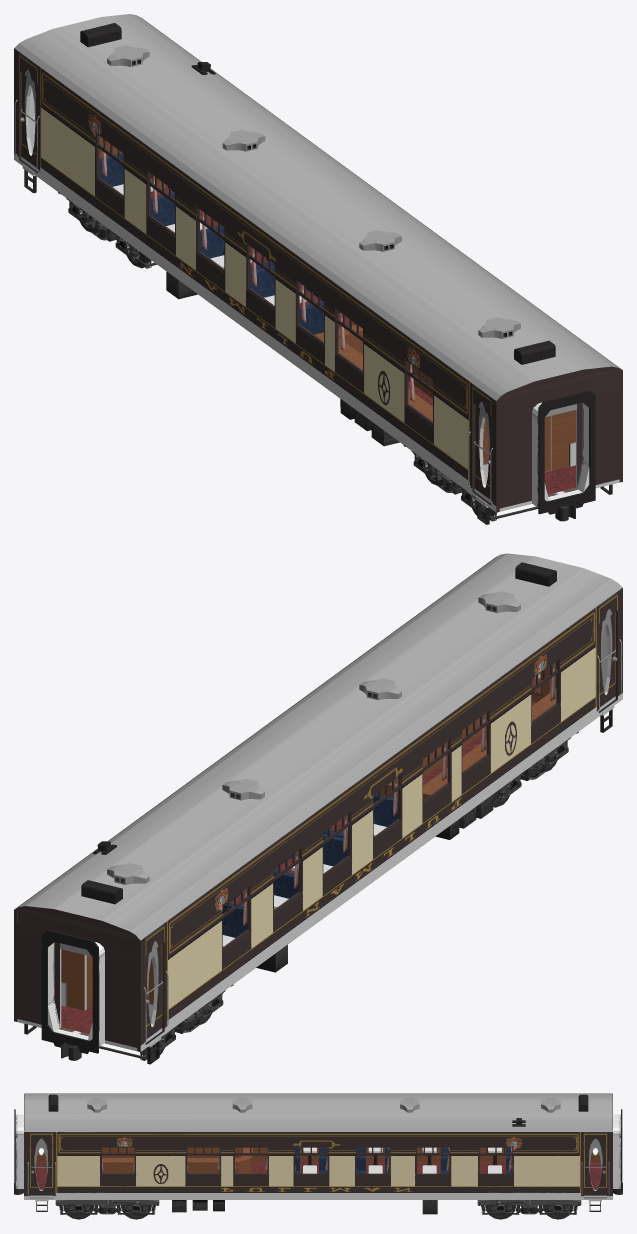
File: brpullman_bar.obj
3 views of the same model, one above another, from view 1: azimuth 30°, elevation 25°; view 2: azimuth 150°, elevation 25°; view 3: azimuth 270°, elevation 25° (orthographic). The views are drawn at different scales.
Visible parts, largest first — view 1: pull_jibung, pull_side, pull_back, pull_sofa, pull_hwanpung, pull_KVZ-TSNII, pull_wall, pull_makoutside, pull_changteulbase, pull_mak, pull_roofitems, pull_changteul (+6 smaller); view 2: pull_jibung, pull_side, pull_back, pull_hwanpung, pull_wall, pull_KVZ-TSNII, pull_makoutside, pull_sofa, pull_changteulbase, pull_bar, pull_roofitems, pull_mak (+6 smaller); view 3: pull_side, pull_jibung, pull_KVZ-TSNII, pull_bar, pull_changteulbase, pull_mak, pull_badakwood, pull_table, pull_door_LF, pull_hwanpung, pull_sofa, pull_door_LB (+8 smaller).
Boxes of the visible parts, left/top/right/bottom form: pull_jibung: left=14, top=14, right=620, bottom=400; pull_side: left=14, top=17, right=622, bottom=512; pull_back: left=497, top=366, right=621, bottom=511; pull_sofa: left=99, top=153, right=356, bottom=334; pull_hwanpung: left=107, top=45, right=520, bottom=338; pull_KVZ-TSNII: left=58, top=192, right=575, bottom=521; pull_wall: left=29, top=88, right=576, bottom=487; pull_makoutside: left=538, top=390, right=595, bottom=514; pull_changteulbase: left=96, top=132, right=432, bottom=424; pull_mak: left=532, top=402, right=589, bottom=507; pull_roofitems: left=80, top=23, right=555, bottom=364; pull_changteul: left=97, top=139, right=432, bottom=392; pull_jibung: left=16, top=553, right=622, bottom=940; pull_side: left=14, top=556, right=622, bottom=1051; pull_back: left=15, top=673, right=540, bottom=1050; pull_hwanpung: left=107, top=591, right=520, bottom=884; pull_wall: left=60, top=627, right=607, bottom=1026; pull_KVZ-TSNII: left=61, top=731, right=578, bottom=1060; pull_makoutside: left=41, top=930, right=98, bottom=1053; pull_sofa: left=222, top=793, right=398, bottom=937; pull_changteulbase: left=222, top=658, right=559, bottom=950; pull_bar: left=376, top=688, right=556, bottom=800; pull_roofitems: left=81, top=562, right=556, bottom=904; pull_mak: left=48, top=942, right=104, bottom=1046; pull_side: left=24, top=1132, right=612, bottom=1199; pull_jibung: left=24, top=1093, right=612, bottom=1131; pull_KVZ-TSNII: left=14, top=1183, right=622, bottom=1219; pull_bar: left=102, top=1147, right=252, bottom=1173; pull_changteulbase: left=101, top=1146, right=512, bottom=1175; pull_mak: left=15, top=1114, right=620, bottom=1188; pull_badakwood: left=35, top=1162, right=601, bottom=1189; pull_table: left=303, top=1147, right=501, bottom=1173; pull_door_LF: left=30, top=1143, right=53, bottom=1197; pull_hwanpung: left=87, top=1098, right=560, bottom=1112; pull_sofa: left=295, top=1147, right=512, bottom=1173; pull_door_LB: left=584, top=1143, right=606, bottom=1197.
Bounding box in the file's own units: 3.06 × 4 × 20.08.
19 materials, 19 textured.
